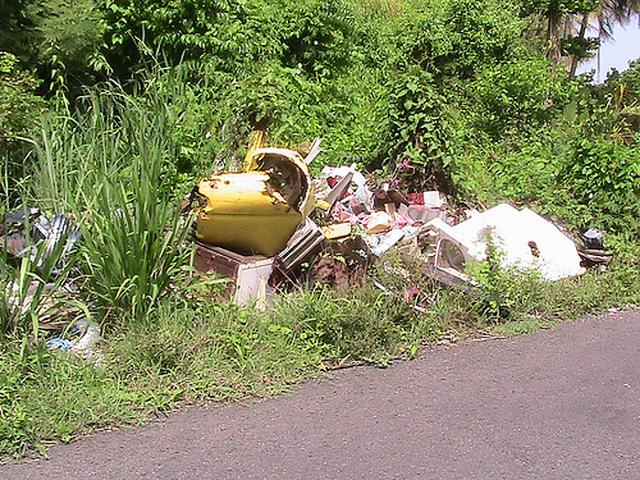garbage: (288, 160, 428, 256)
